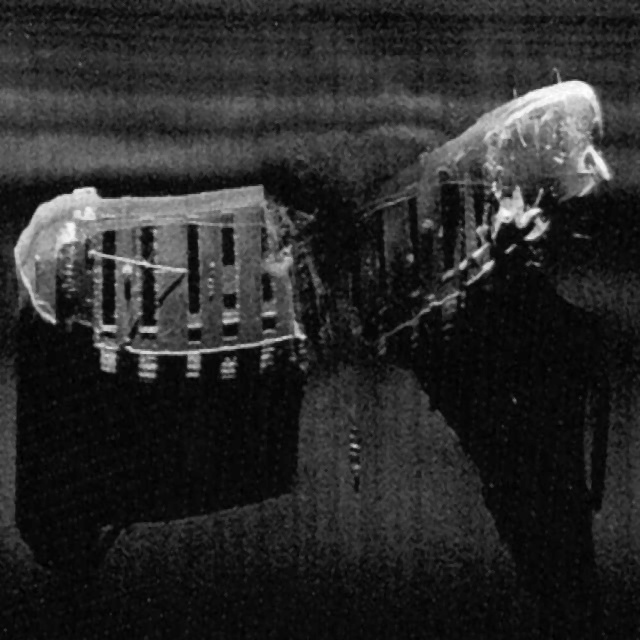Ship: (9, 52, 620, 396)
